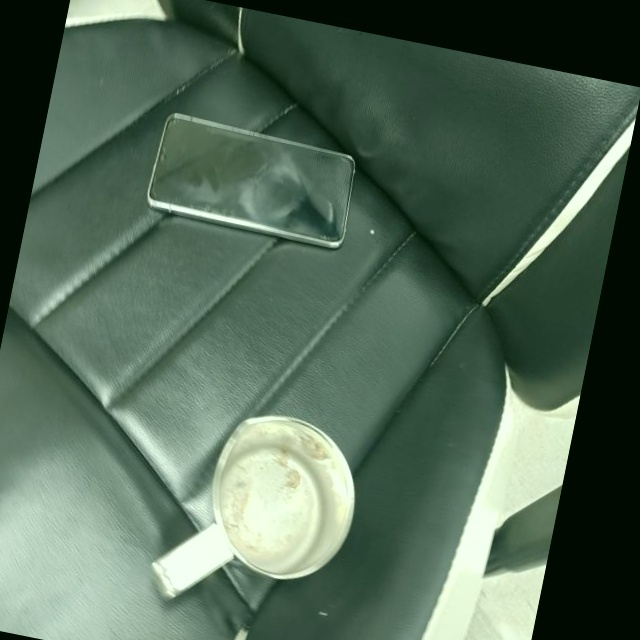cup: (148, 390, 374, 625)
phone: (142, 106, 366, 255)
